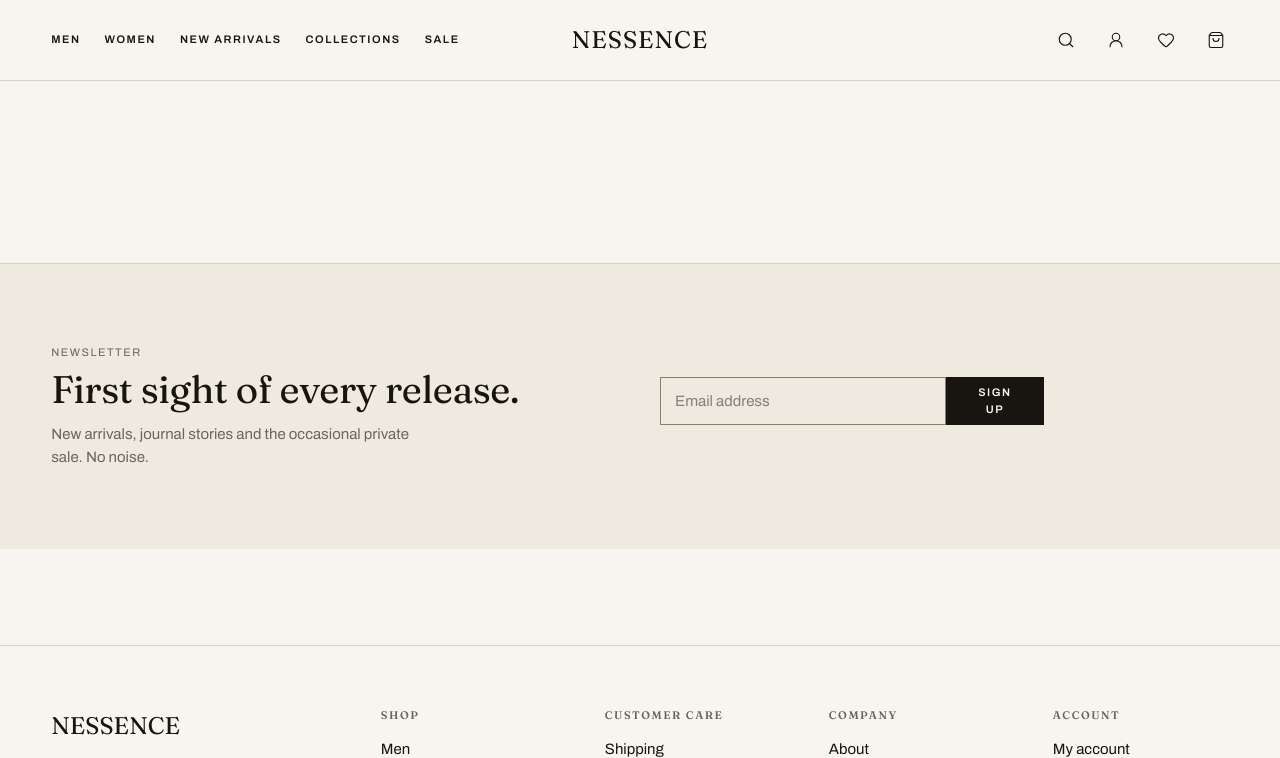
Scenario: home page › the home newsletter signs up with source "home"
(page scrolled)
Type "mira@example.com" into the field labelled "Email address" at (803, 401), box [660,377,946,425]
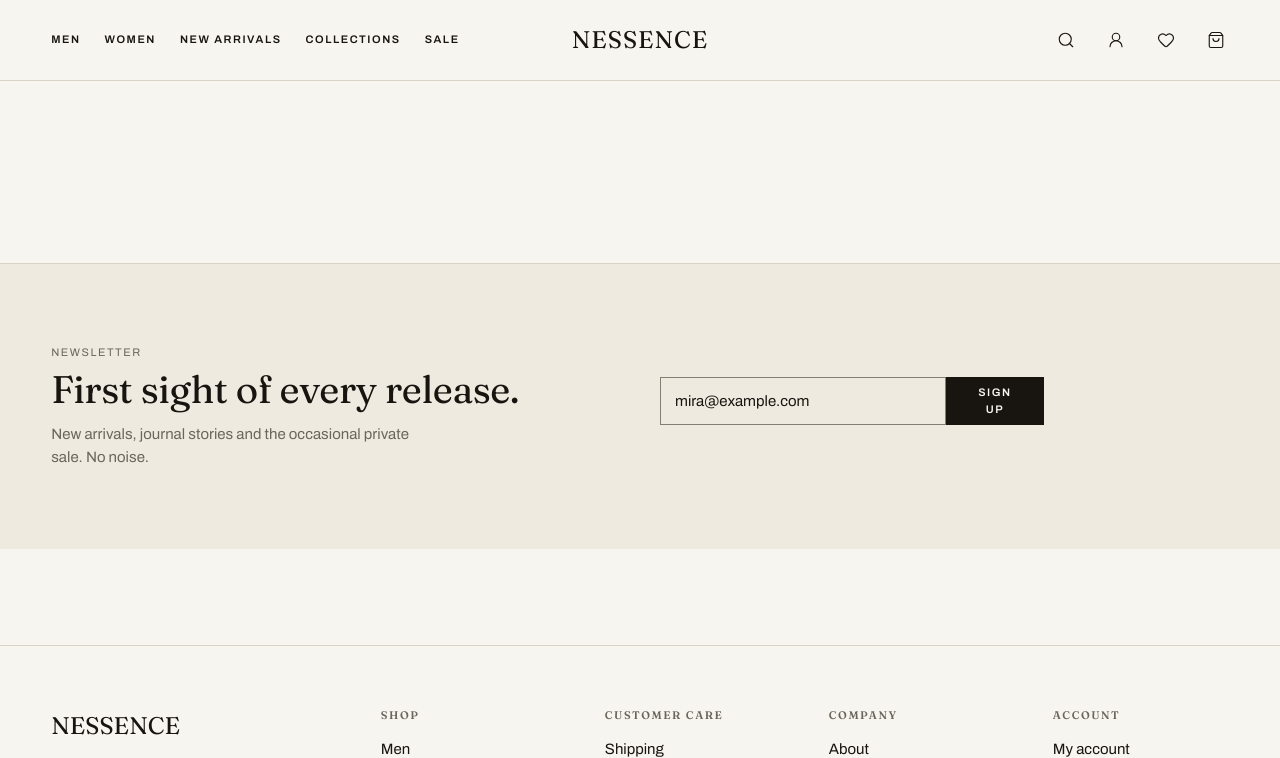
Click the button "Sign up" at (995, 401), box [946,377,1044,425]
(page scrolled)
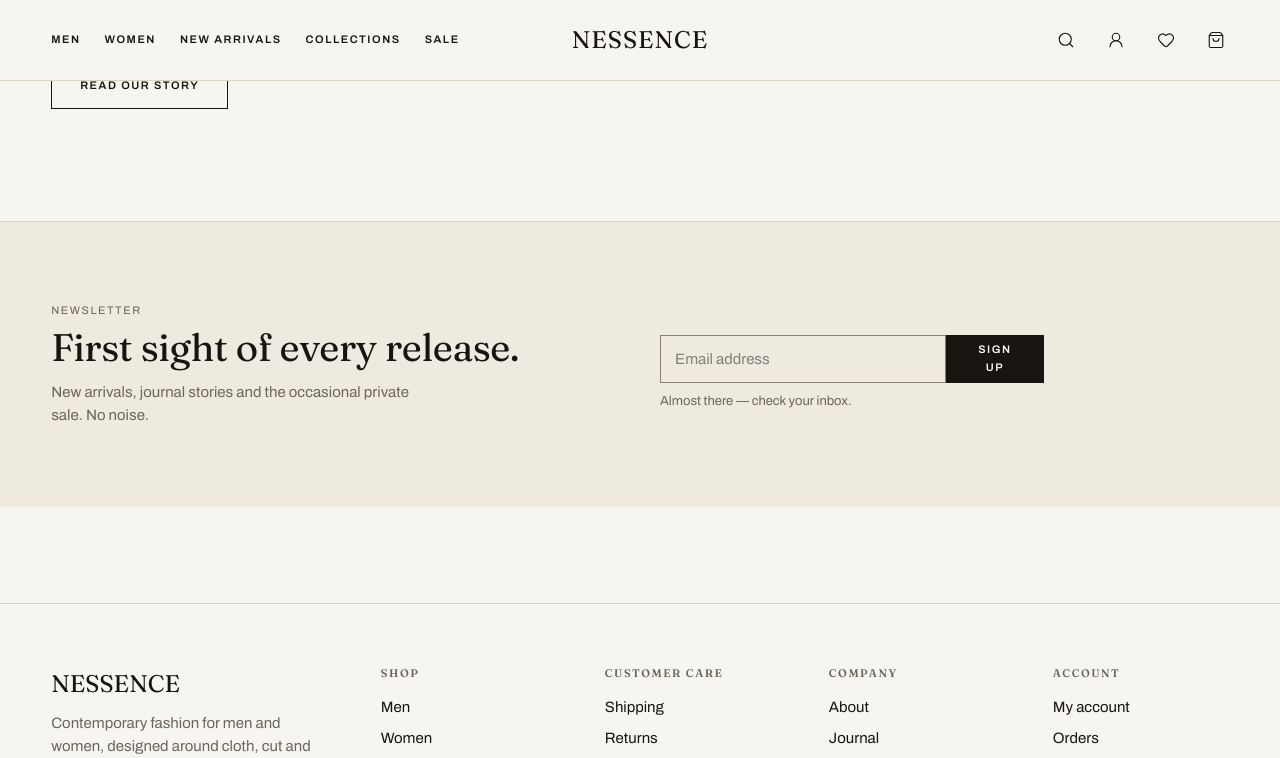
Check: the text "Almost there — check your inbox." is shown, box [660,394,852,408]
